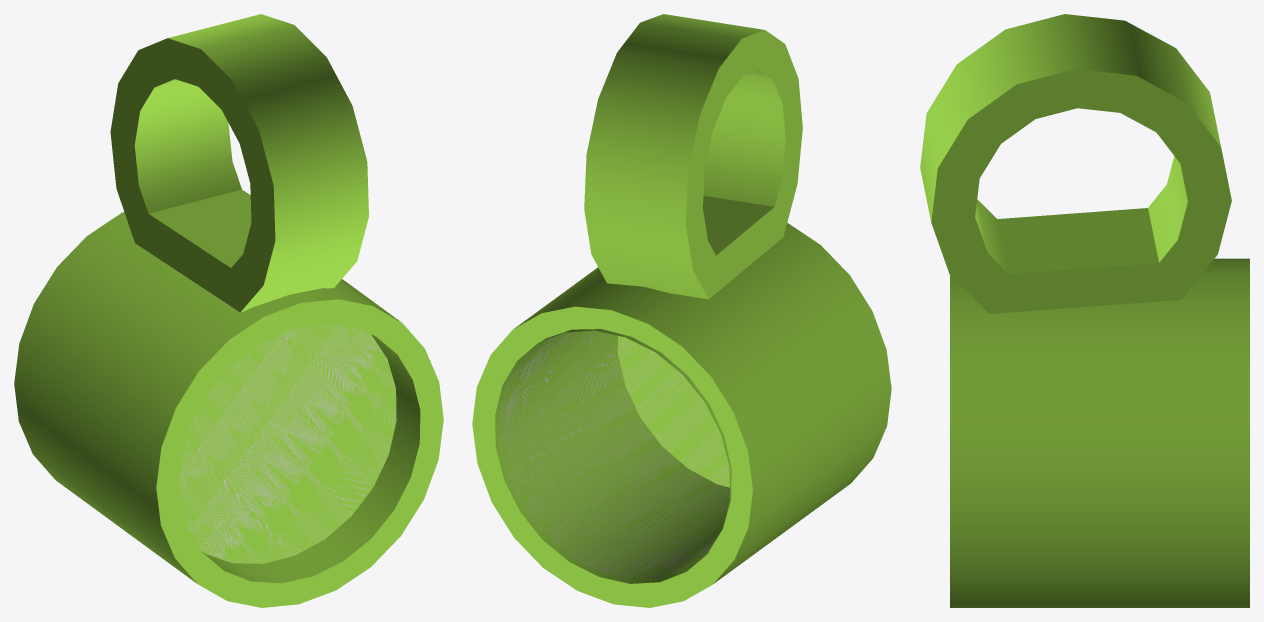
File: model_scale.obj
3 views of the same model, side by side, from view 1: azimuth 30°, elevation 25°; view 2: azimuth 150°, elevation 25°; view 3: azimuth 270°, elevation 25° (orthographic). The views are drawn at different scales.
Visible parts, largest first — view 1: mesh1_mesh1-geometry, mesh2_mesh2-geometry; view 2: mesh1_mesh1-geometry, mesh2_mesh2-geometry; view 3: mesh1_mesh1-geometry, mesh2_mesh2-geometry.
Boxes of the visible parts, left/top/right/bottom form: mesh1_mesh1-geometry: left=14, top=212, right=443, bottom=607; mesh2_mesh2-geometry: left=110, top=14, right=368, bottom=312; mesh1_mesh1-geometry: left=472, top=223, right=891, bottom=607; mesh2_mesh2-geometry: left=584, top=14, right=802, bottom=299; mesh1_mesh1-geometry: left=950, top=258, right=1249, bottom=607; mesh2_mesh2-geometry: left=920, top=14, right=1231, bottom=313.
Size of the model in its own units: 0.0734 by 0.1283 by 0.0691.
